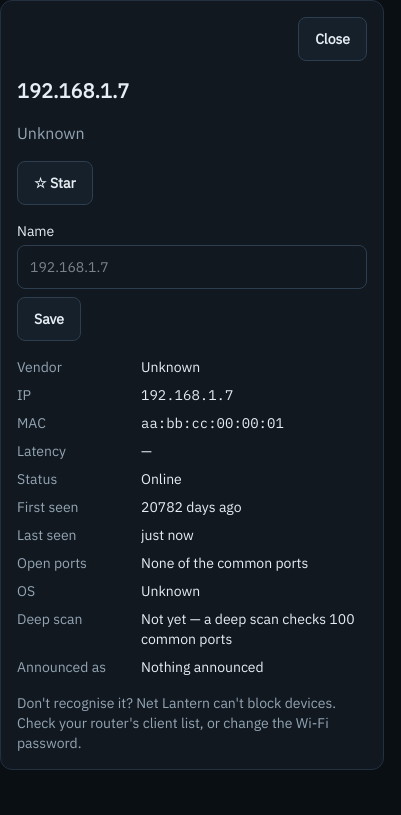
DeviceDetails › shows the server's validation message
In the field labelled "Name": (192, 267) [17,245,367,289], type "x"
Then press Enter
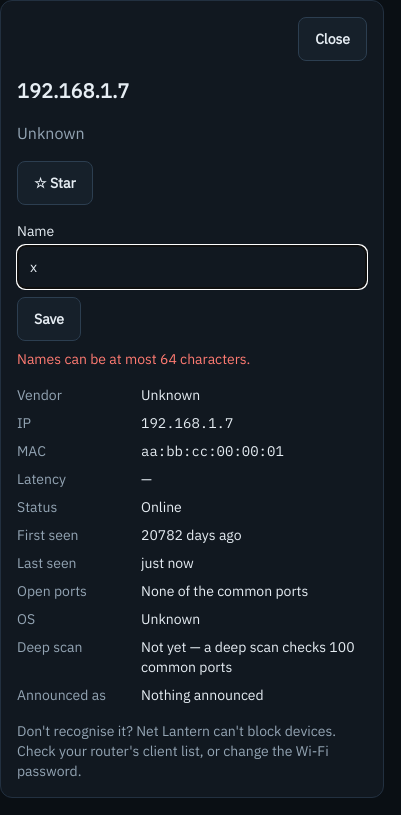
Now the message reads "Names can be at most 64 characters.", box [17,350,250,368]
